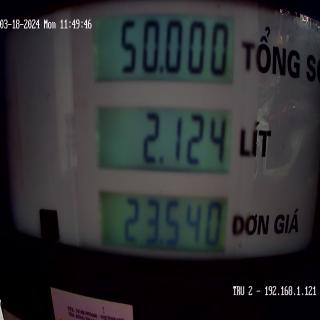screen: (89, 3, 239, 280)
